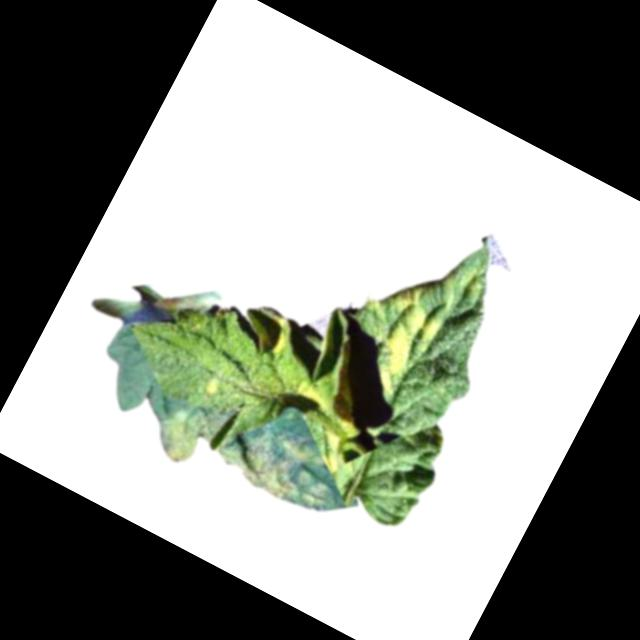Leaf_Mold: (148, 380, 346, 531), (353, 277, 458, 401), (275, 356, 380, 474), (231, 296, 300, 361), (197, 367, 228, 399)
